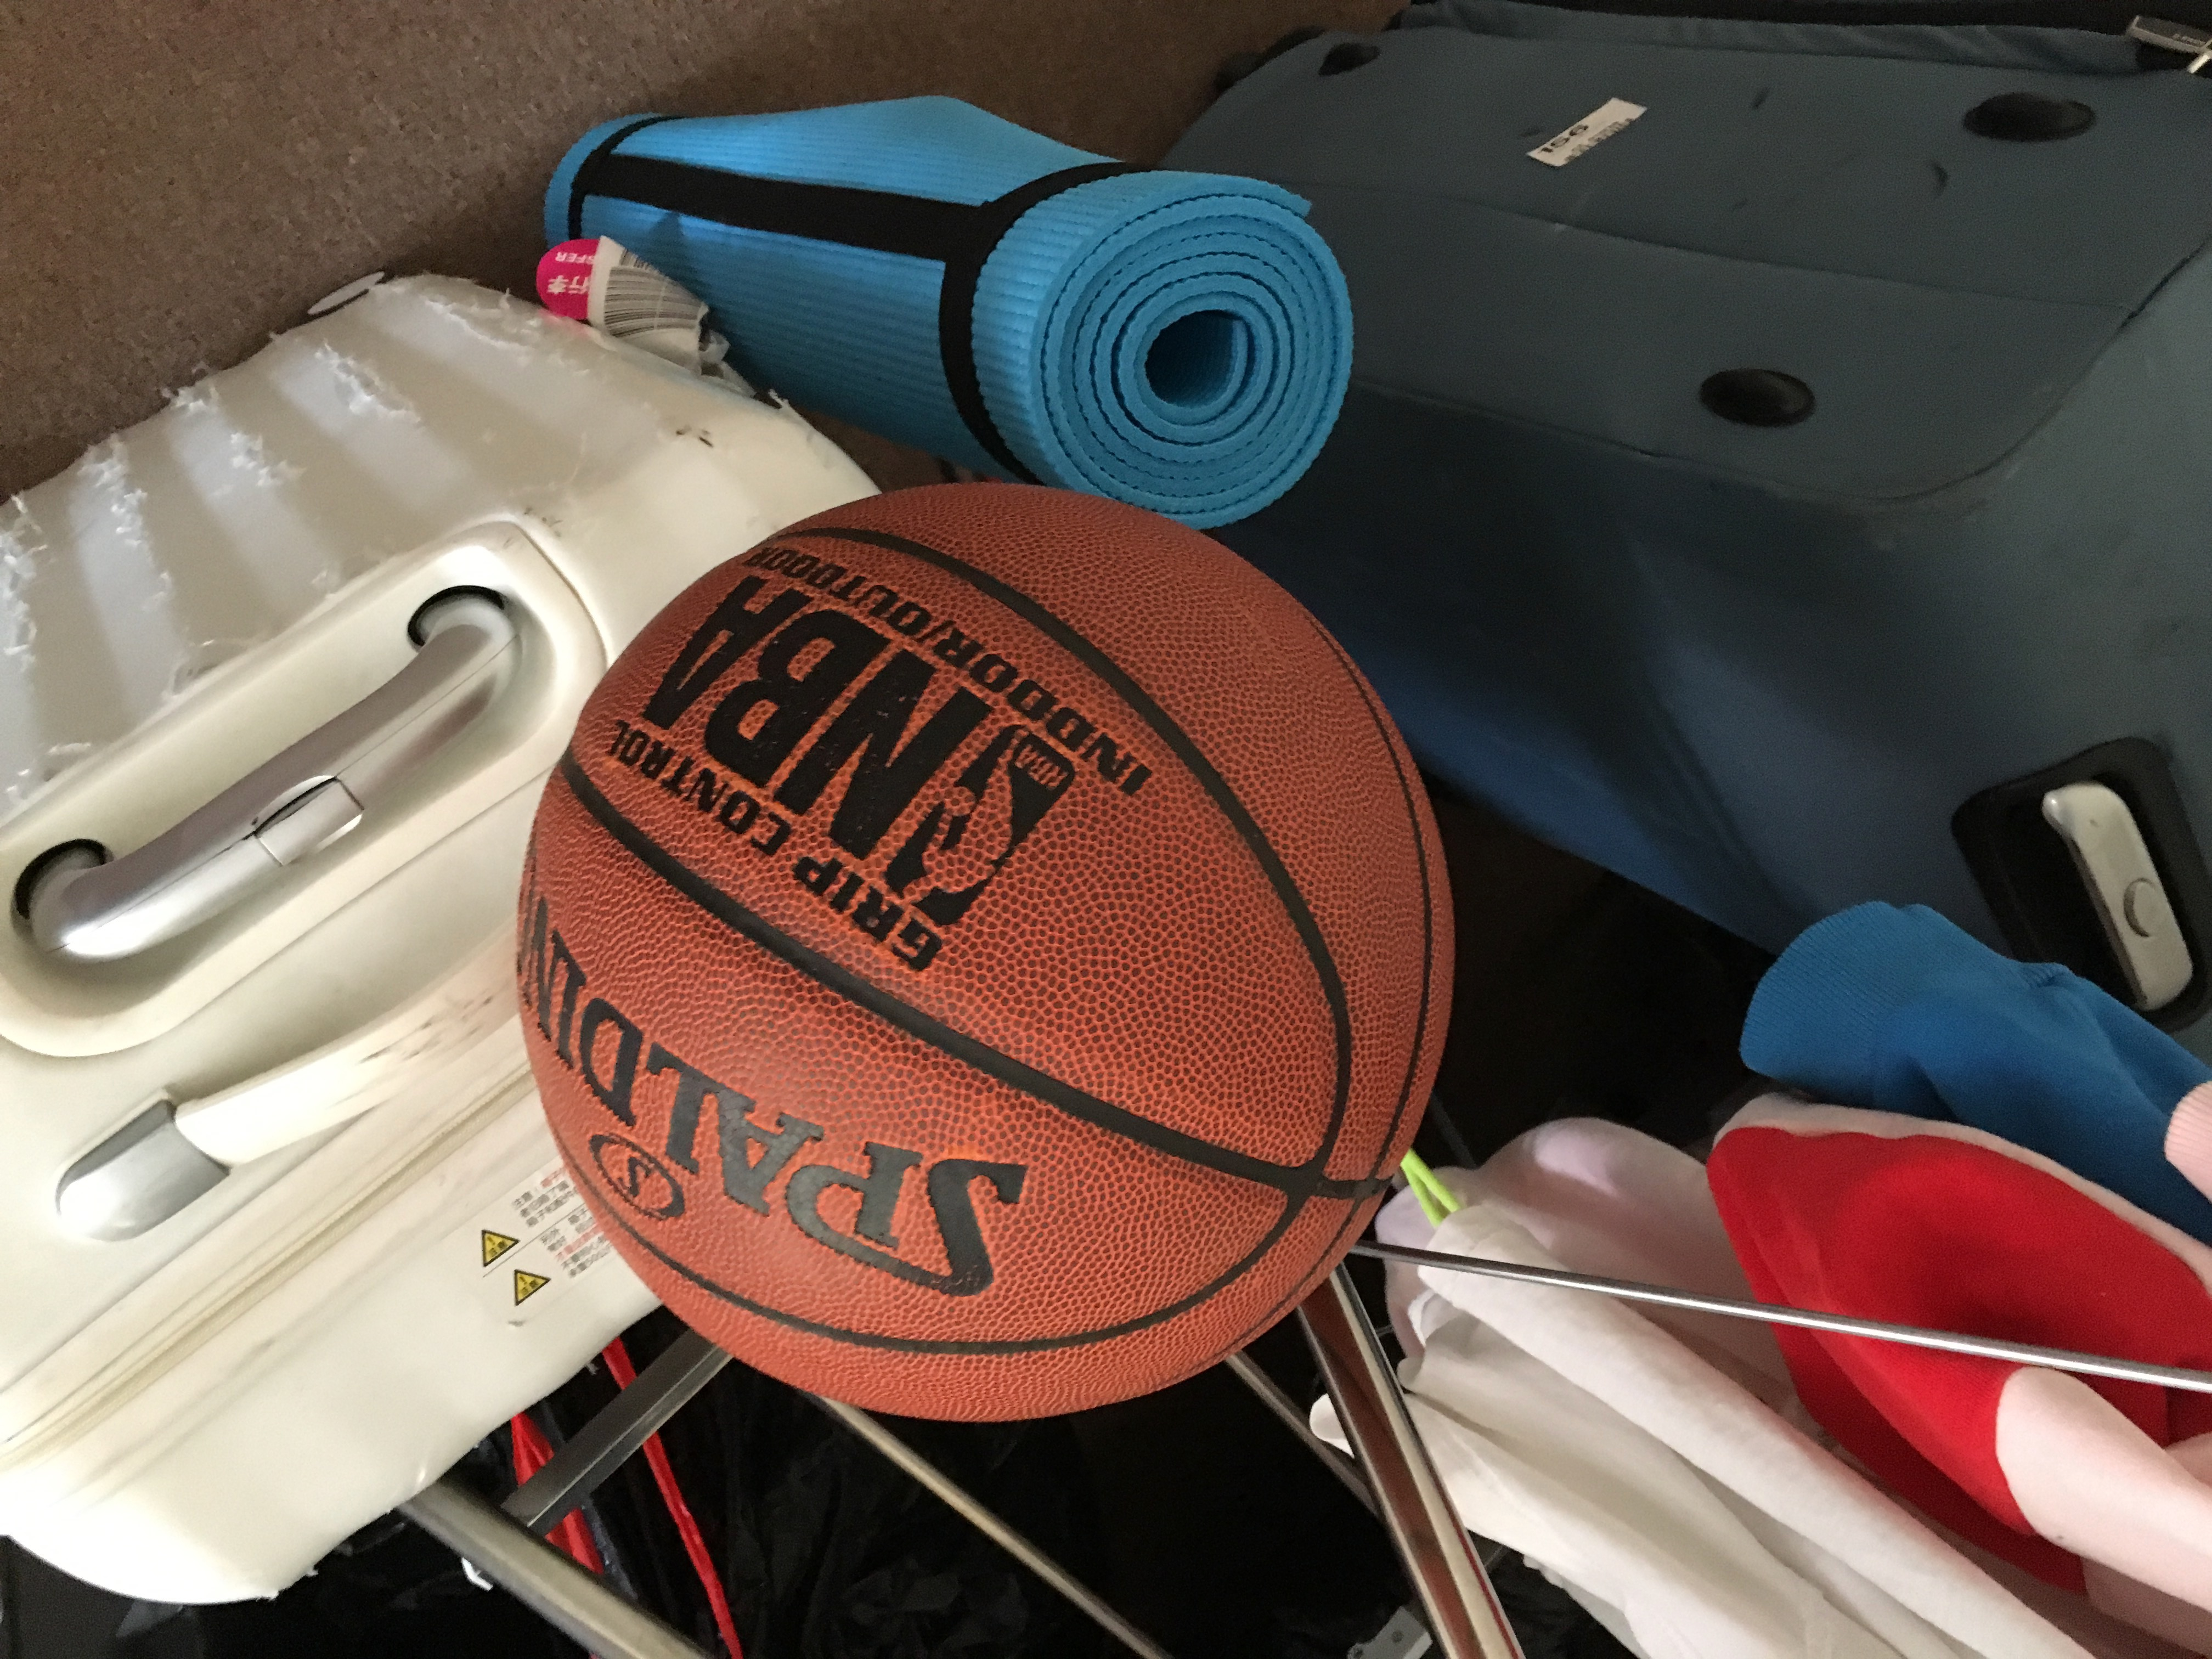Basketball: (496, 469, 1477, 1443)
